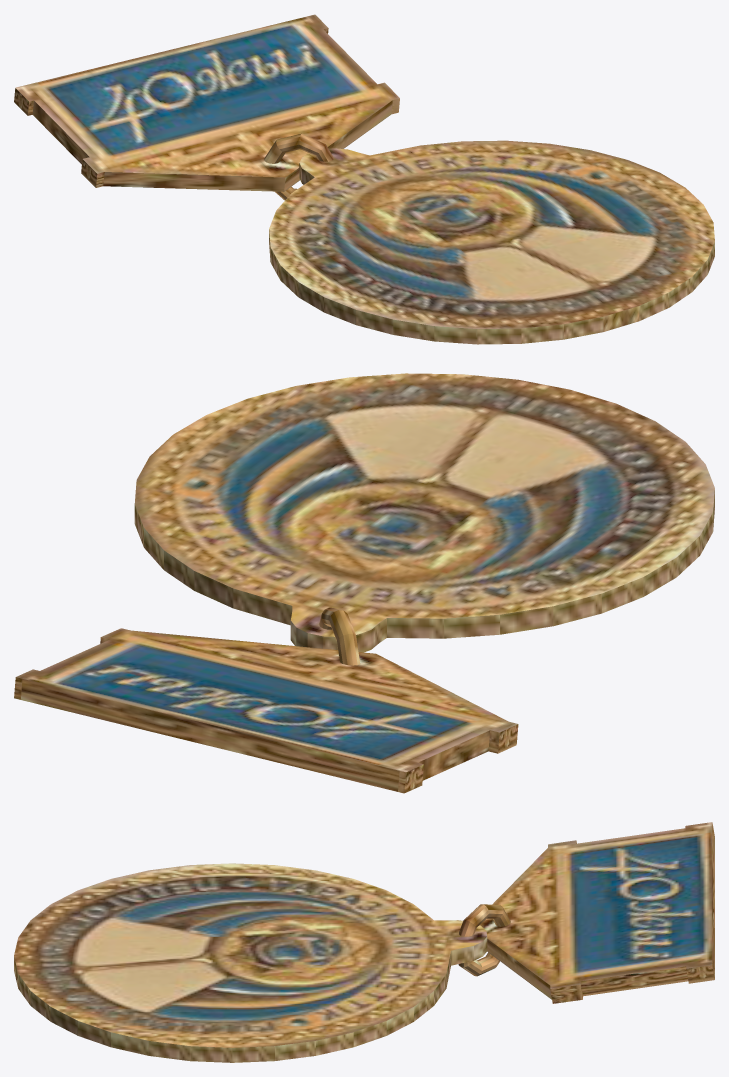
The model's file is medal.fbx.
3 renders of one model, top to bottom at view 1: azimuth 30°, elevation 25°; view 2: azimuth 150°, elevation 25°; view 3: azimuth 270°, elevation 25°, orthographic. The views are drawn at different scales.
Parts seen in each view (by area): view 1: medal, Plane, ring; view 2: medal, Plane, ring; view 3: medal, Plane, ring.
Boxes of the visible parts, left/top/right/bottom form: medal: left=269, top=140, right=714, bottom=344; Plane: left=14, top=14, right=399, bottom=191; ring: left=264, top=133, right=333, bottom=200; medal: left=134, top=373, right=714, bottom=652; Plane: left=14, top=628, right=518, bottom=793; ring: left=319, top=607, right=360, bottom=665; medal: left=14, top=863, right=487, bottom=1062; Plane: left=480, top=822, right=714, bottom=1003; ring: left=458, top=904, right=510, bottom=976.
Size of the model in its own units: 117 by 18.61 by 170.
